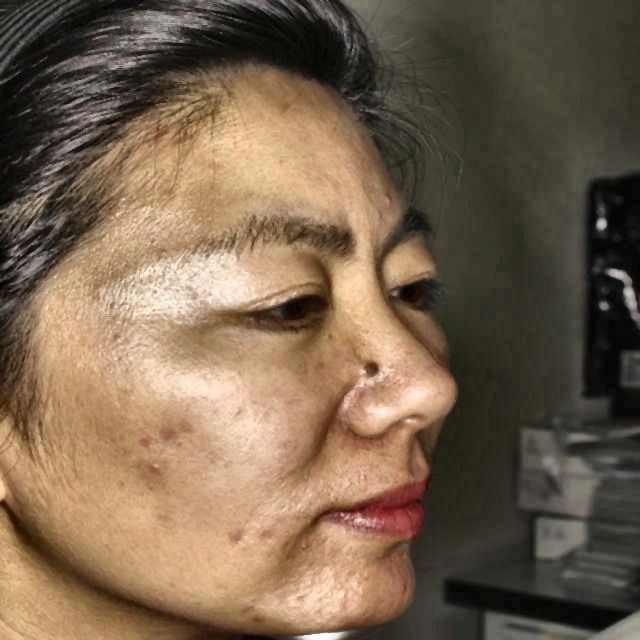comedone: (134, 449, 174, 484), (364, 184, 398, 220), (227, 520, 254, 564)
